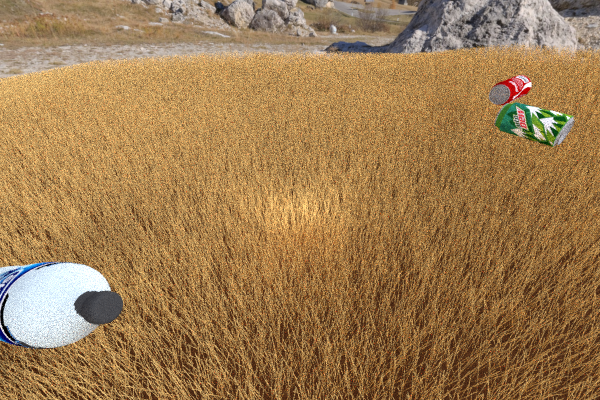Plastic Bottle: (0, 261, 123, 348), (494, 102, 574, 146), (488, 75, 531, 105)
